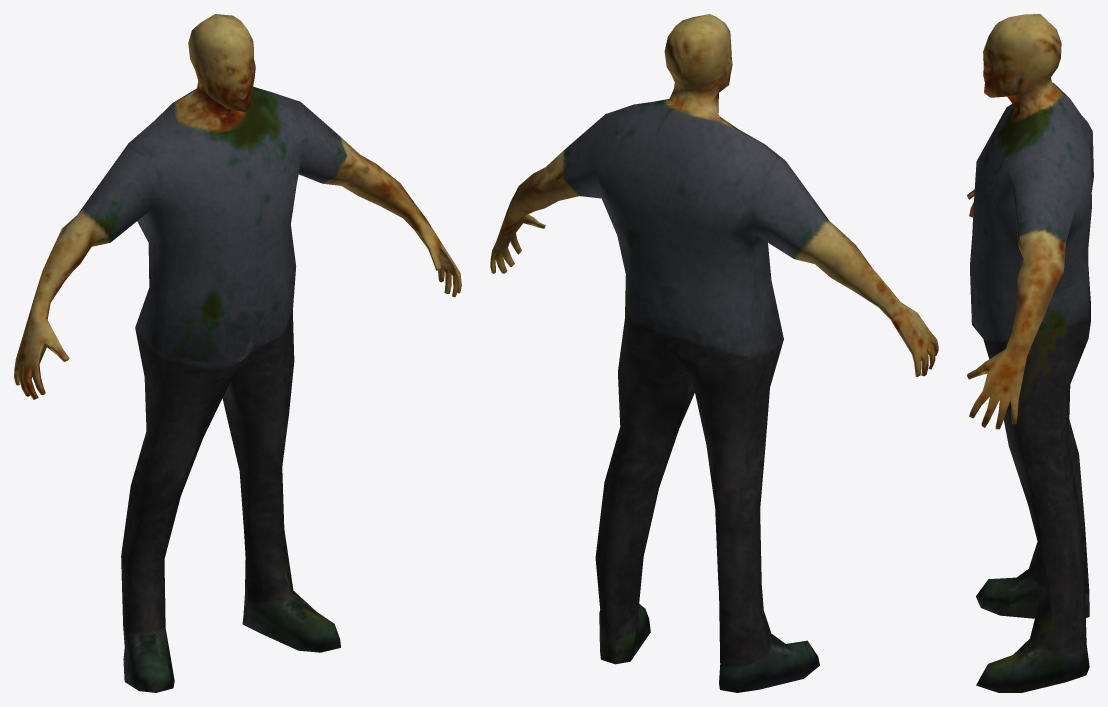
Rendered from zombie_run.fbx.
3 renders of one model, left to right at view 1: azimuth 30°, elevation 25°; view 2: azimuth 150°, elevation 25°; view 3: azimuth 270°, elevation 25°, orthographic.
Parts seen in each view (by area): view 1: zombie_run; view 2: zombie_run; view 3: zombie_run.
Boxes of the visible parts, <box> form: zombie_run: <box>14,14,461,692</box>; zombie_run: <box>490,14,938,692</box>; zombie_run: <box>967,14,1093,692</box>.
Size of the model in its own units: 128 by 181 by 32.97.
Materials: 1 (1 with a texture image).
